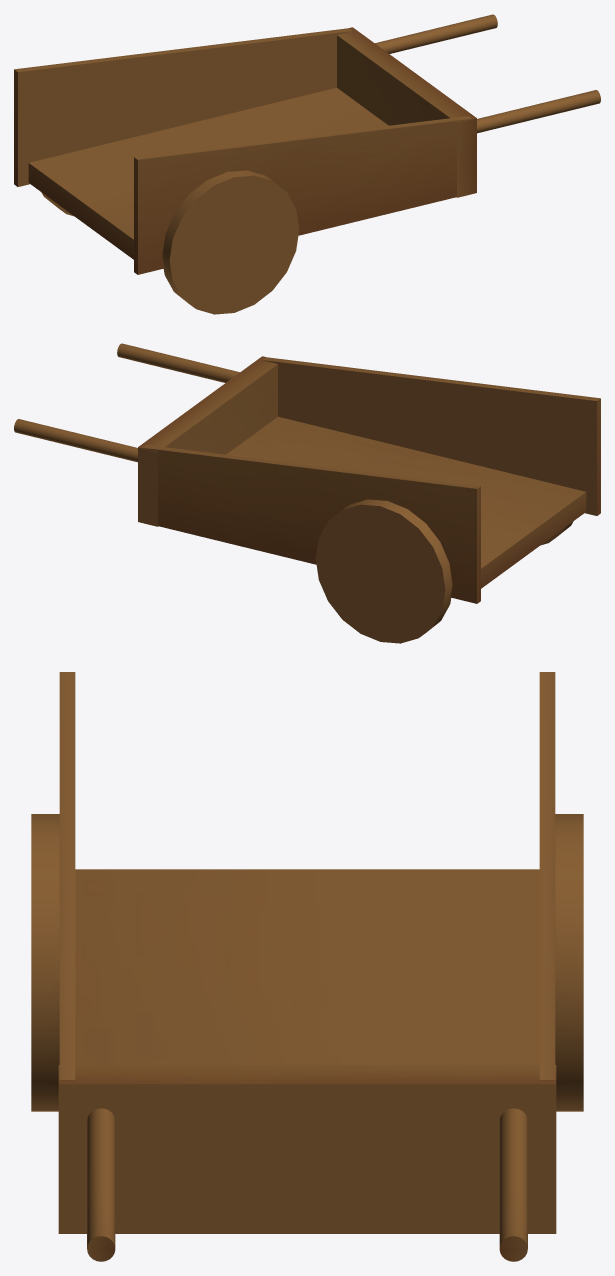
The model's file is cart.fbx.
3 renders of one model, top to bottom at view 1: azimuth 30°, elevation 25°; view 2: azimuth 150°, elevation 25°; view 3: azimuth 270°, elevation 25°, orthographic. The views are drawn at different scales.
Visible parts, largest first — view 1: pCylinder14; view 2: pCylinder14; view 3: pCylinder14.
Part boxes in pixels (x1=…): pCylinder14: x1=14, y1=14, x2=600, y2=314; pCylinder14: x1=14, y1=343, x2=600, y2=643; pCylinder14: x1=31, y1=672, x2=583, y2=1261.
Bounding box in the file's own units: 0.4113 × 0.1418 × 0.2094.
